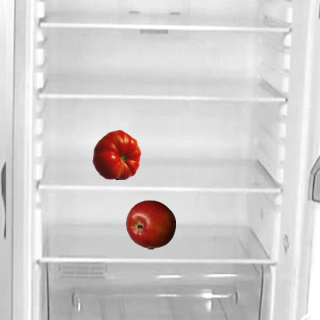Apple Braeburn: (125, 199, 175, 249)
Tomato 3: (91, 129, 141, 179)
